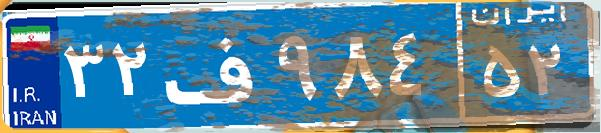2: (110, 28, 158, 105), (525, 38, 570, 115)
3: (57, 26, 110, 107)
4: (385, 28, 445, 110)
5: (475, 38, 525, 113)
8: (330, 28, 385, 110)
9: (273, 28, 330, 110)
ف: (158, 15, 273, 115)
